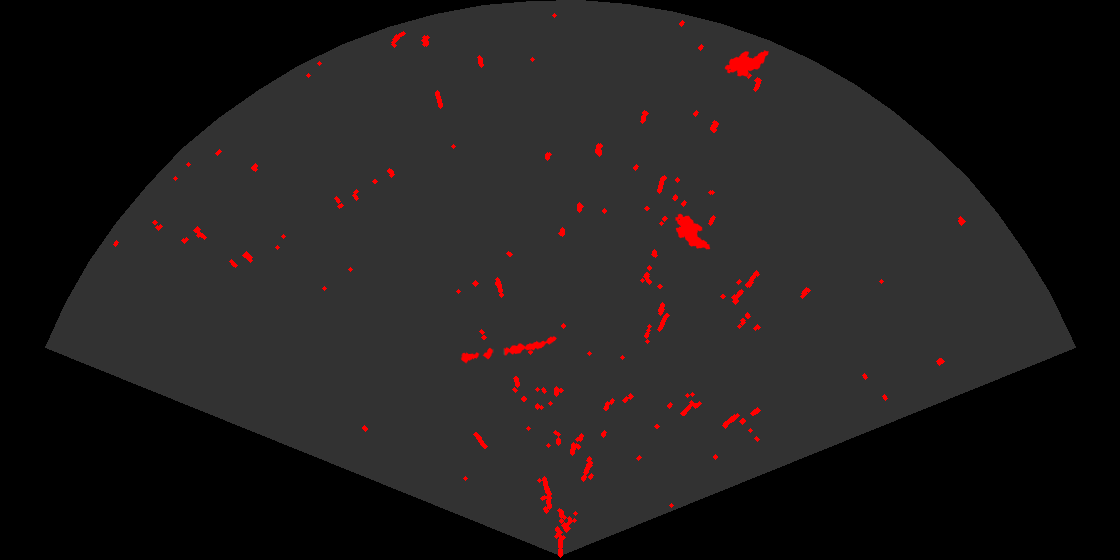AUV: (674, 212, 712, 251), (723, 49, 770, 78)
chain: (458, 335, 558, 365)
